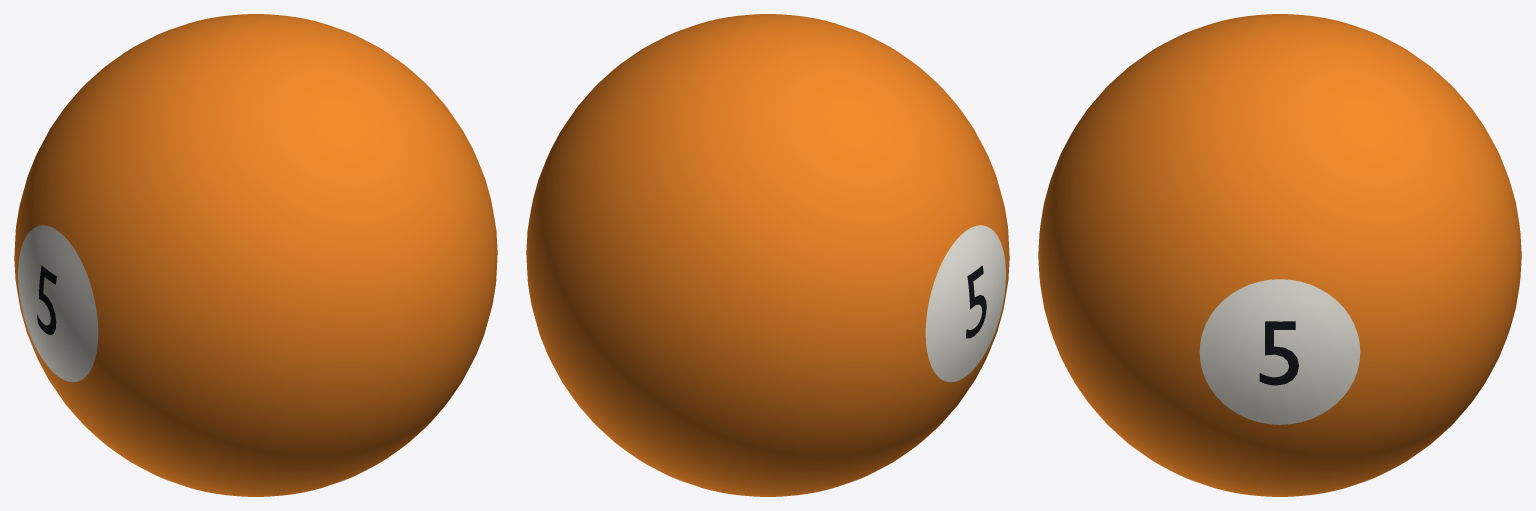
The model's file is ball_05.glb.
3 renders of one model, left to right at view 1: azimuth 30°, elevation 25°; view 2: azimuth 150°, elevation 25°; view 3: azimuth 270°, elevation 25°, orthographic.
Parts seen in each view (by area): view 1: Ball 05 | resin, Ball 05 | number medallion | opposite, Ball 05 | numeral 5 | opposite; view 2: Ball 05 | resin, Ball 05 | number medallion | opposite, Ball 05 | numeral 5 | opposite; view 3: Ball 05 | resin, Ball 05 | number medallion, Ball 05 | numeral 5.
Boxes of the visible parts, <box> form: Ball 05 | resin: <box>14,14,497,496</box>; Ball 05 | number medallion | opposite: <box>18,225,98,382</box>; Ball 05 | numeral 5 | opposite: <box>37,265,56,335</box>; Ball 05 | resin: <box>526,14,1009,496</box>; Ball 05 | number medallion | opposite: <box>925,225,1005,382</box>; Ball 05 | numeral 5 | opposite: <box>966,265,986,338</box>; Ball 05 | resin: <box>1038,14,1521,496</box>; Ball 05 | number medallion: <box>1199,279,1360,424</box>; Ball 05 | numeral 5: <box>1259,321,1298,385</box>.
Bounding box in the file's own units: 0.0573 × 0.0571 × 0.0571.
